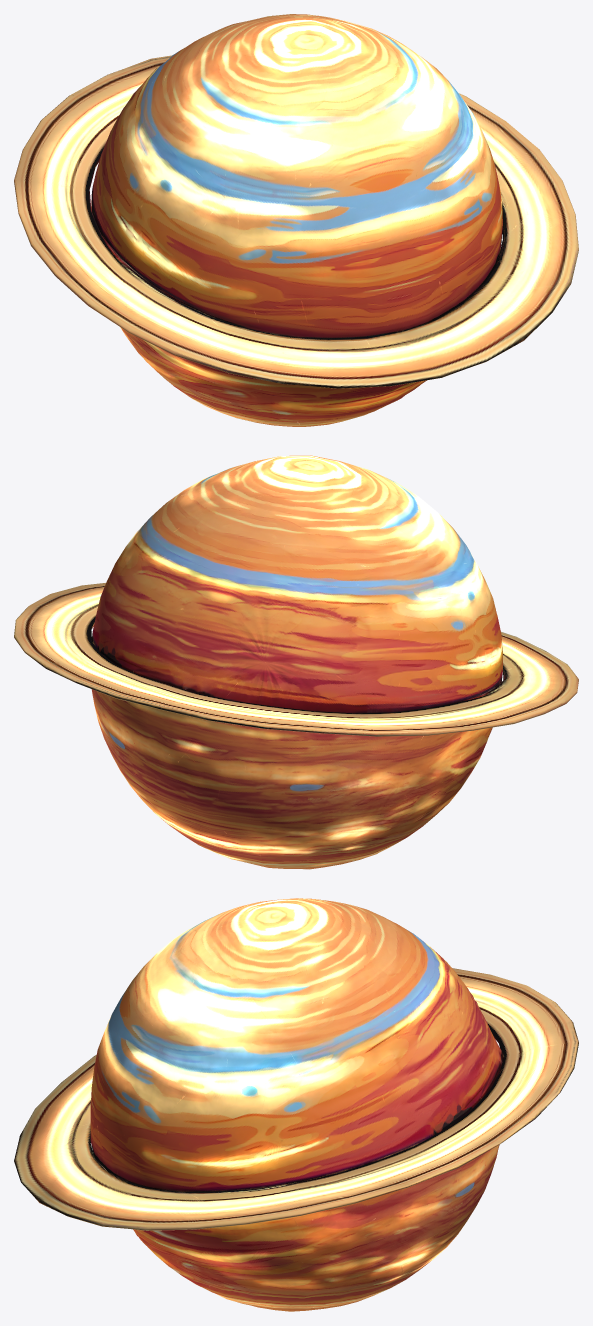
Rendered from Meshy_AI_Sunset_Saturn_0519154148_texture.glb.
3 renders of one model, top to bottom at view 1: azimuth 30°, elevation 25°; view 2: azimuth 150°, elevation 25°; view 3: azimuth 270°, elevation 25°, orthographic.
Bounding box in the file's own units: 1.91 × 1.41 × 1.9.
Materials: 1 (1 with a texture image).
